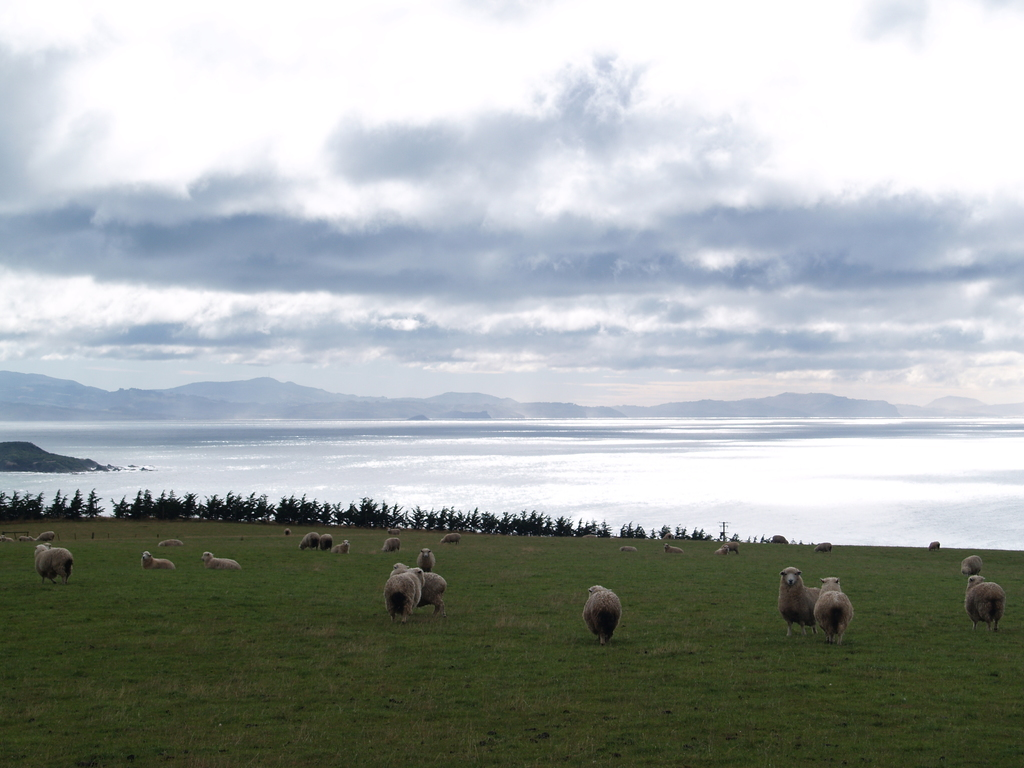sheep: (812, 576, 852, 645), (584, 585, 625, 646), (965, 575, 1007, 631), (385, 570, 425, 617), (35, 544, 72, 583), (197, 552, 243, 570), (144, 551, 175, 572), (298, 531, 318, 552), (158, 536, 184, 550), (320, 533, 334, 554), (437, 531, 461, 543), (332, 540, 350, 555), (662, 543, 683, 554), (382, 540, 401, 552), (811, 542, 831, 552), (773, 535, 789, 544), (926, 540, 938, 552), (718, 547, 730, 558), (621, 547, 637, 552), (387, 531, 401, 535), (20, 536, 28, 542)
